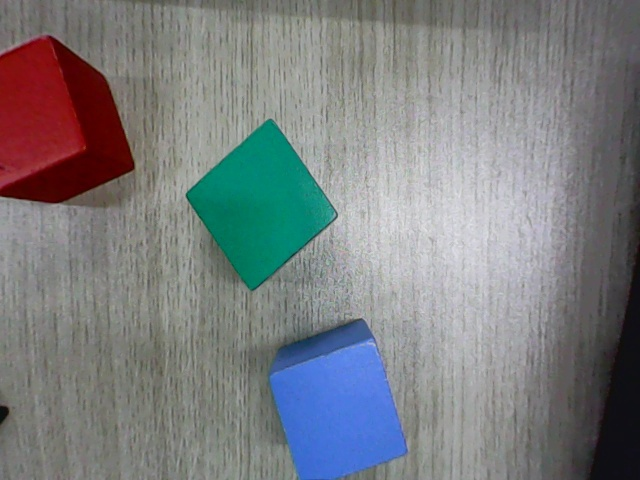upside of big cube: (184, 118, 341, 291), (267, 339, 408, 479), (0, 35, 87, 190)
